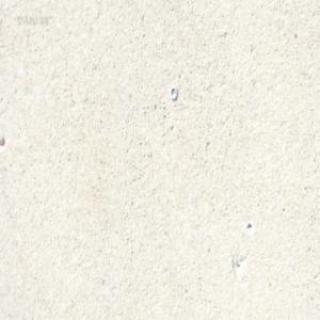Washertrack_idkeyframe: (168, 85, 176, 100)
